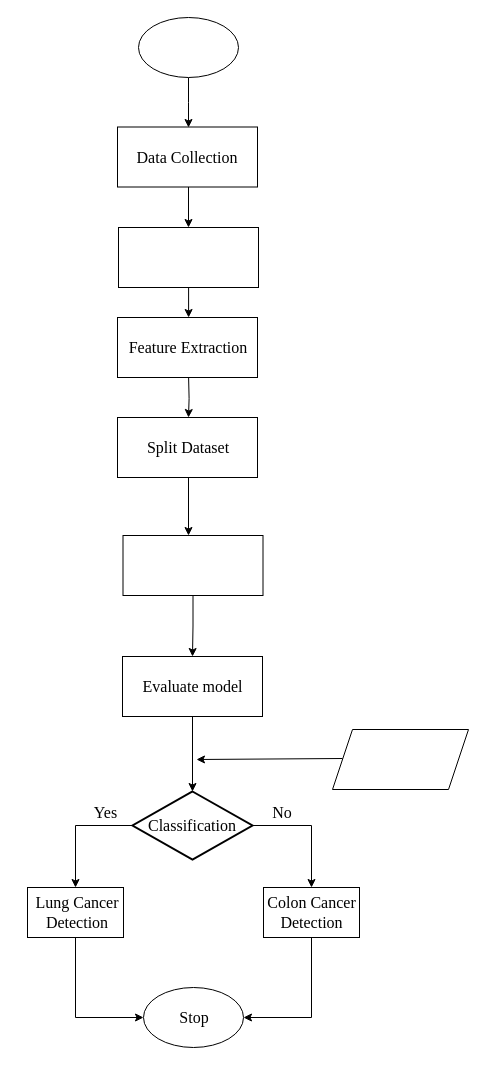
Some shapes in this 486 by 1065 pixel diagram are drawn without their labels. Each missing label, with the box of its shape:
Input Image: (332, 728, 468, 790)
Preprocessing: (118, 226, 258, 288)
Start: (138, 16, 238, 78)
Train & Testing Model: (122, 534, 263, 596)
